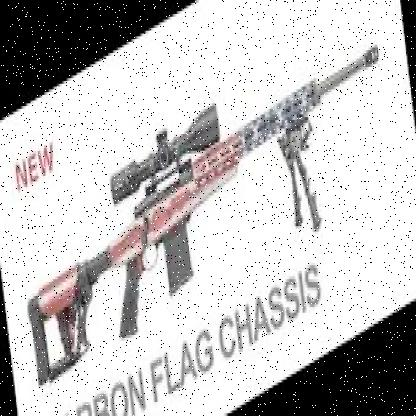rifle: (17, 37, 393, 390)
